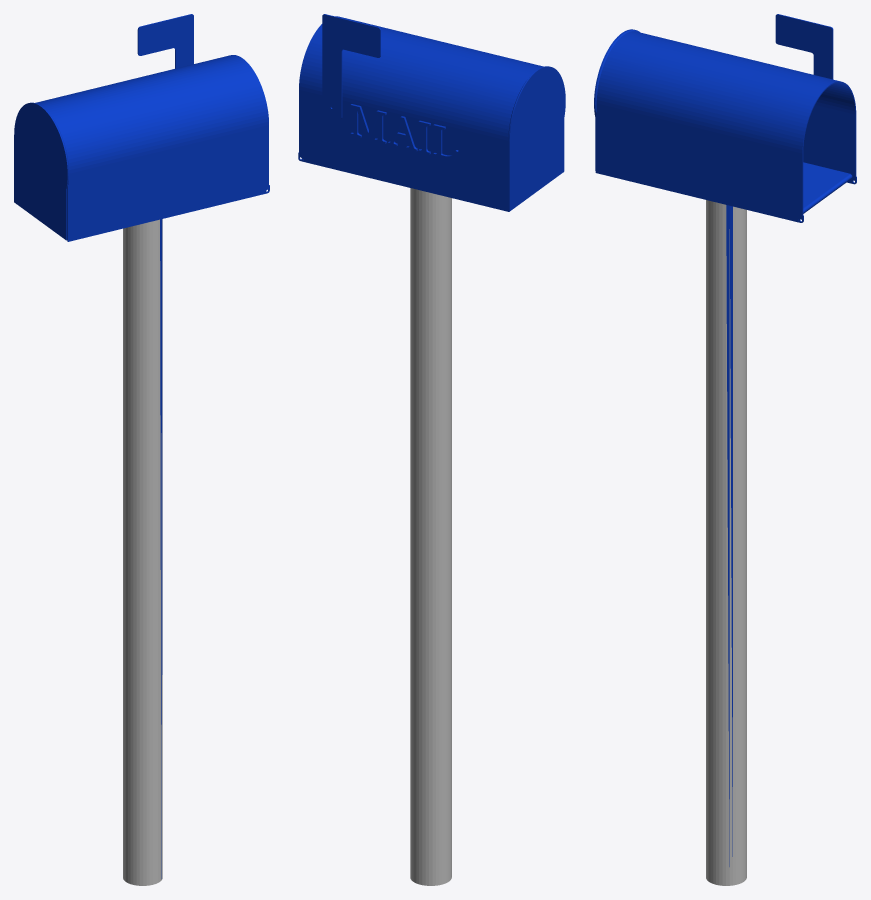
File: mailbox_new.obj
3 renders of one model, left to right at view 1: azimuth 30°, elevation 25°; view 2: azimuth 150°, elevation 25°; view 3: azimuth 330°, elevation 25°, orthographic. The views are drawn at different scales.
Parts seen in each view (by area): view 1: Mailbox_Mailbox.001; view 2: Mailbox_Mailbox.001; view 3: Mailbox_Mailbox.001.
Boxes of the visible parts, box(x1,y1,x2,y2) form: Mailbox_Mailbox.001: box(14, 14, 269, 885); Mailbox_Mailbox.001: box(298, 14, 565, 885); Mailbox_Mailbox.001: box(594, 14, 856, 885).
Size of the model in its own units: 1.1 by 4.27 by 0.5081.
